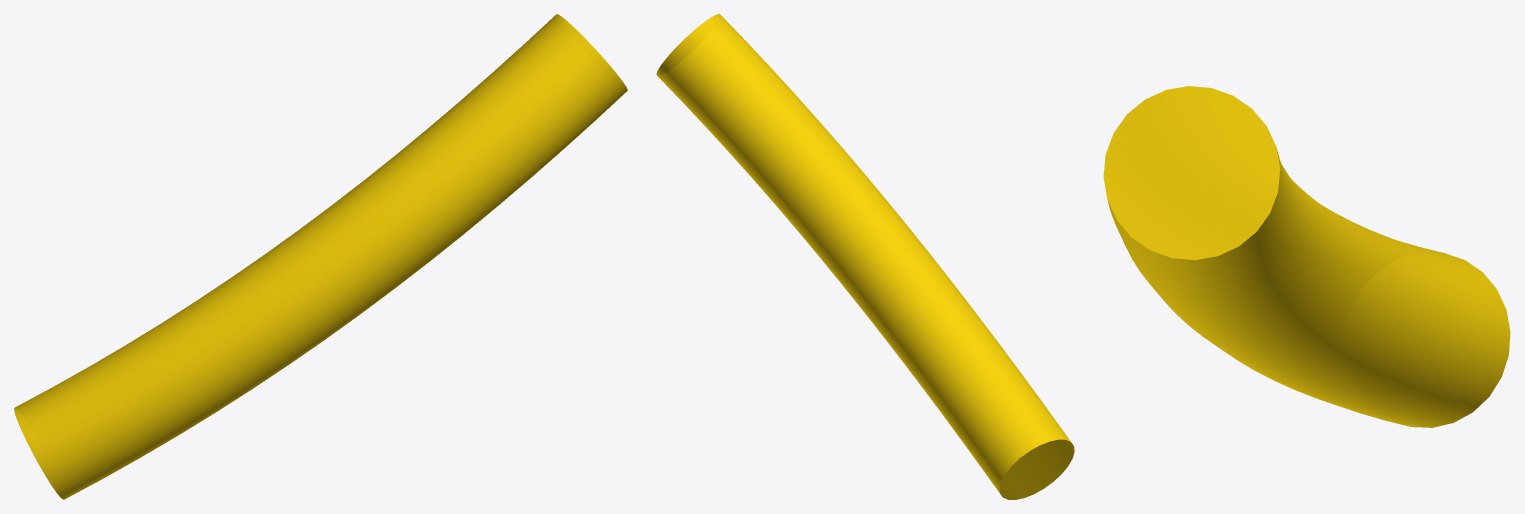
The model's file is Event_420094457_track_60.fbx.
3 views of the same model, side by side, from view 1: azimuth 30°, elevation 25°; view 2: azimuth 150°, elevation 25°; view 3: azimuth 270°, elevation 25° (orthographic). The views are drawn at different scales.
Parts seen in each view (by area): view 1: Model; view 2: Model; view 3: Model.
Boxes of the visible parts, x1,y1,x2,y2 form: Model: (14, 14, 627, 499); Model: (656, 14, 1074, 499); Model: (1103, 86, 1510, 427).
Size of the model in its own units: 0.2358 by 0.1746 by 0.0919.
